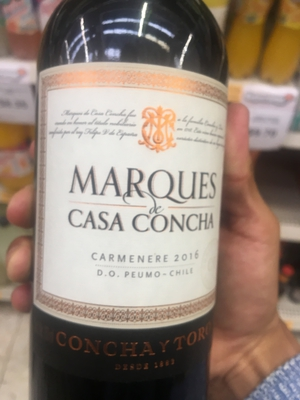marques de casa concha carmenere: (29, 18, 233, 394)
